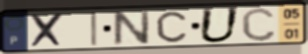C: (240, 6, 278, 43), (155, 10, 189, 44)
I: (89, 10, 100, 48)
N: (110, 8, 152, 47)
U: (197, 6, 243, 44)
X: (29, 12, 66, 49)
